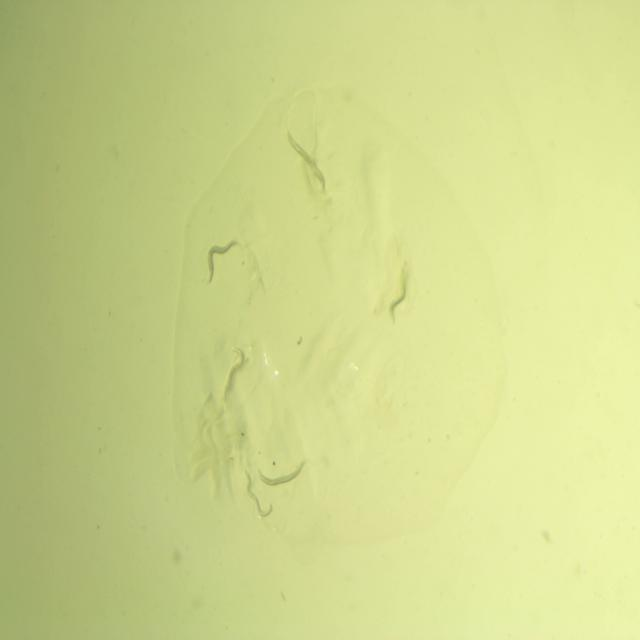worm: (282, 127, 331, 197), (240, 466, 275, 524), (202, 236, 242, 286), (253, 458, 310, 489), (388, 265, 414, 330), (222, 342, 248, 405)
